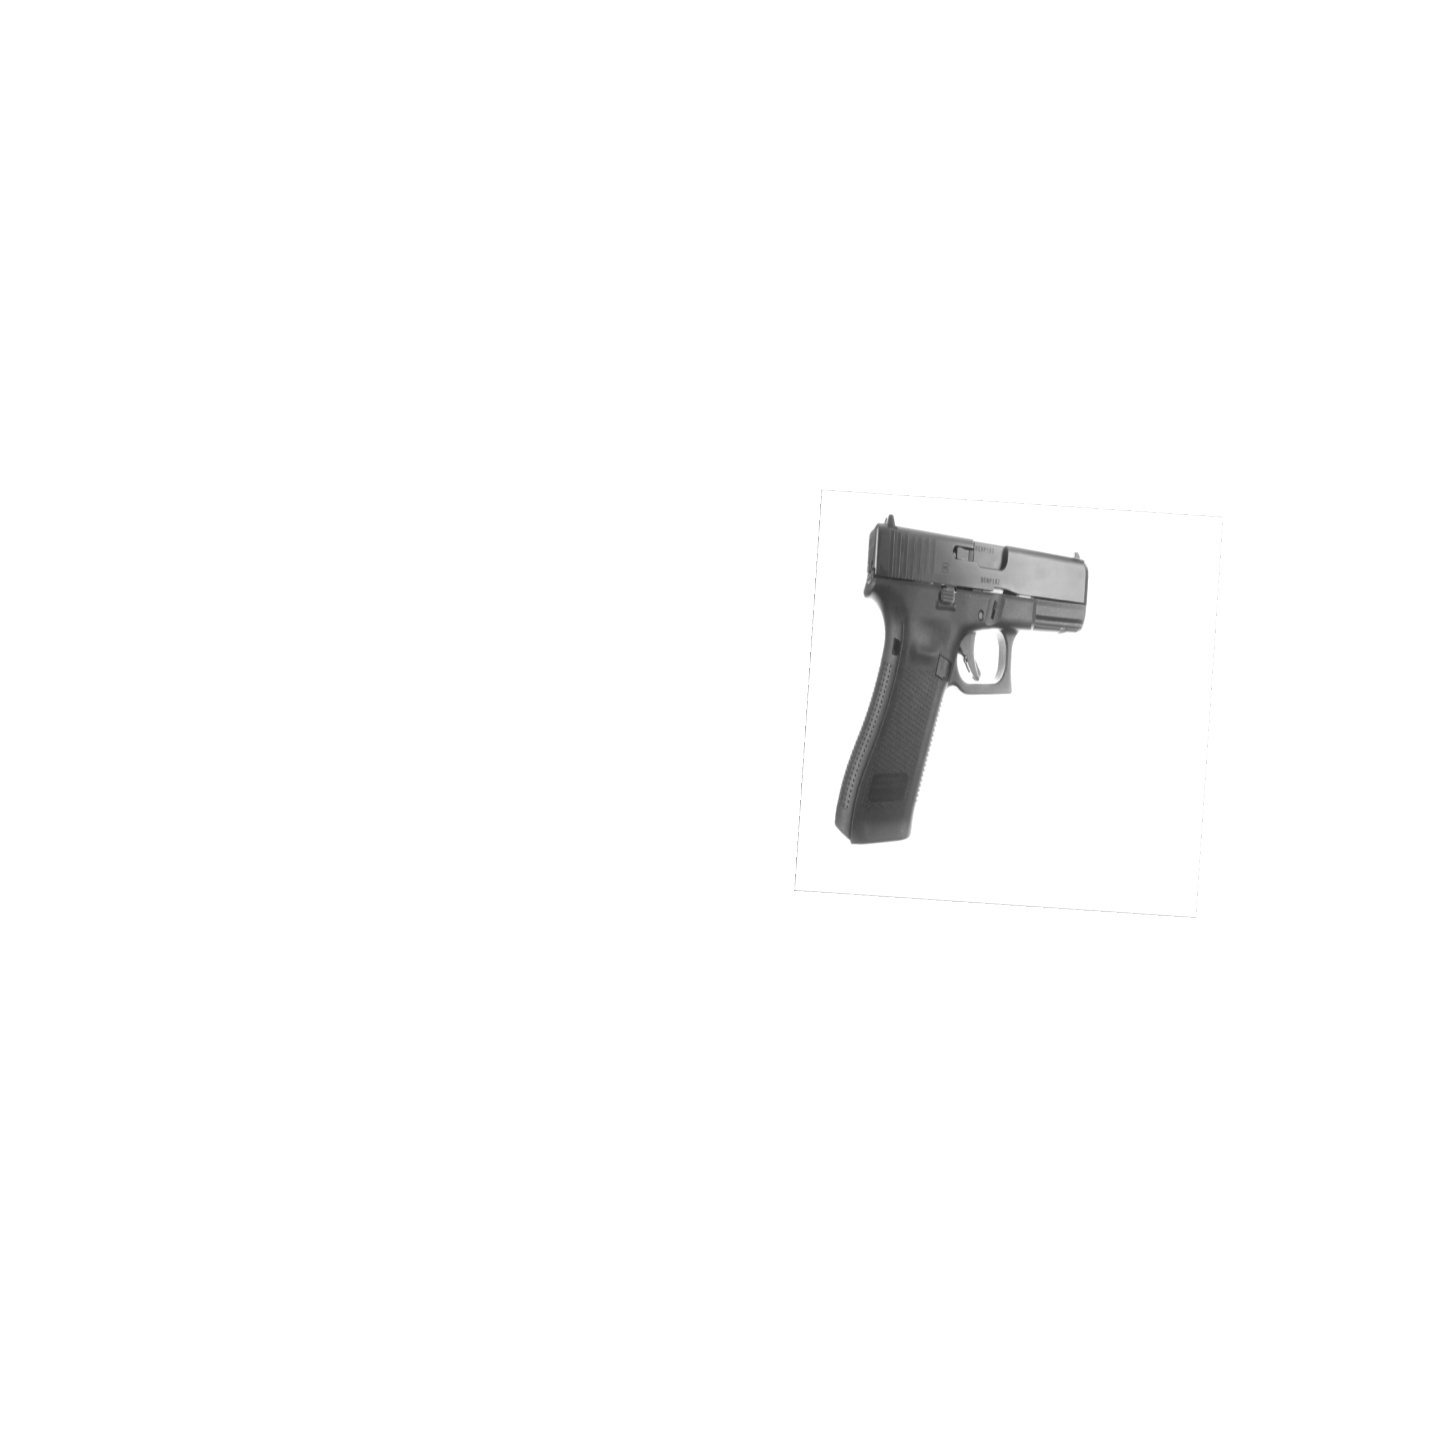gun: (830, 512, 1092, 847)
